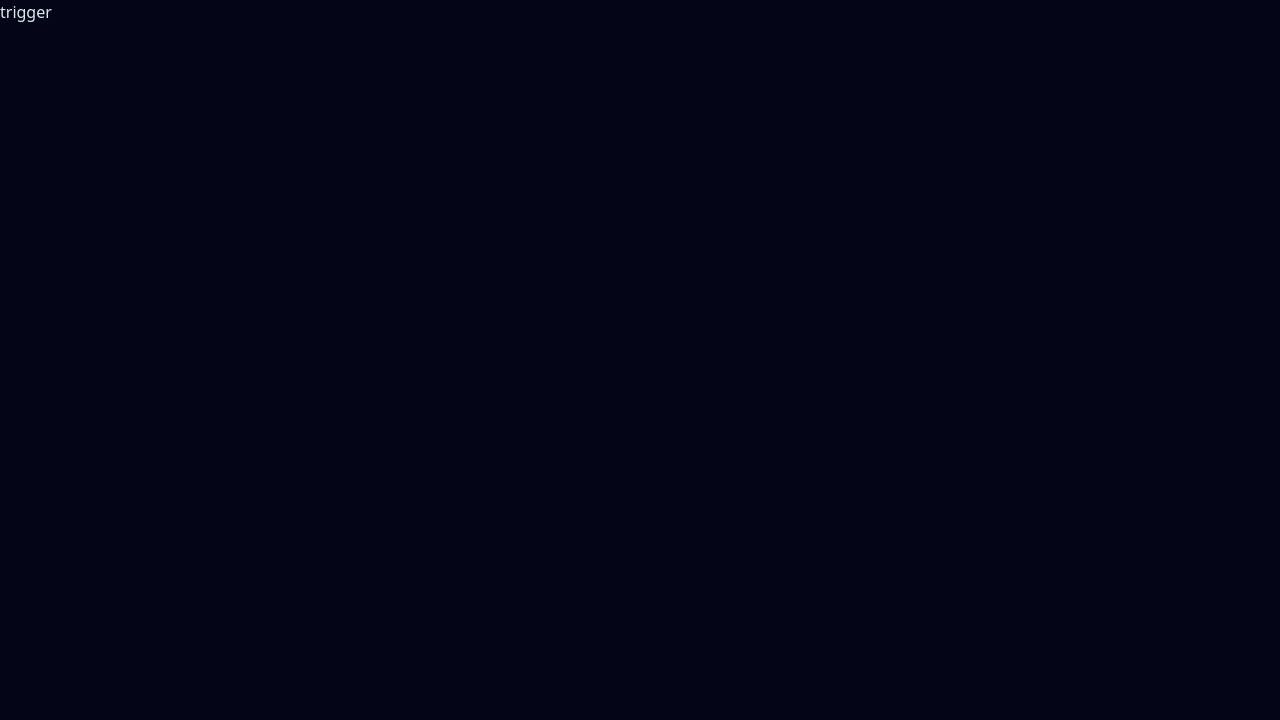
Test case: open/close › closes on scrim click
Step 1. Press k
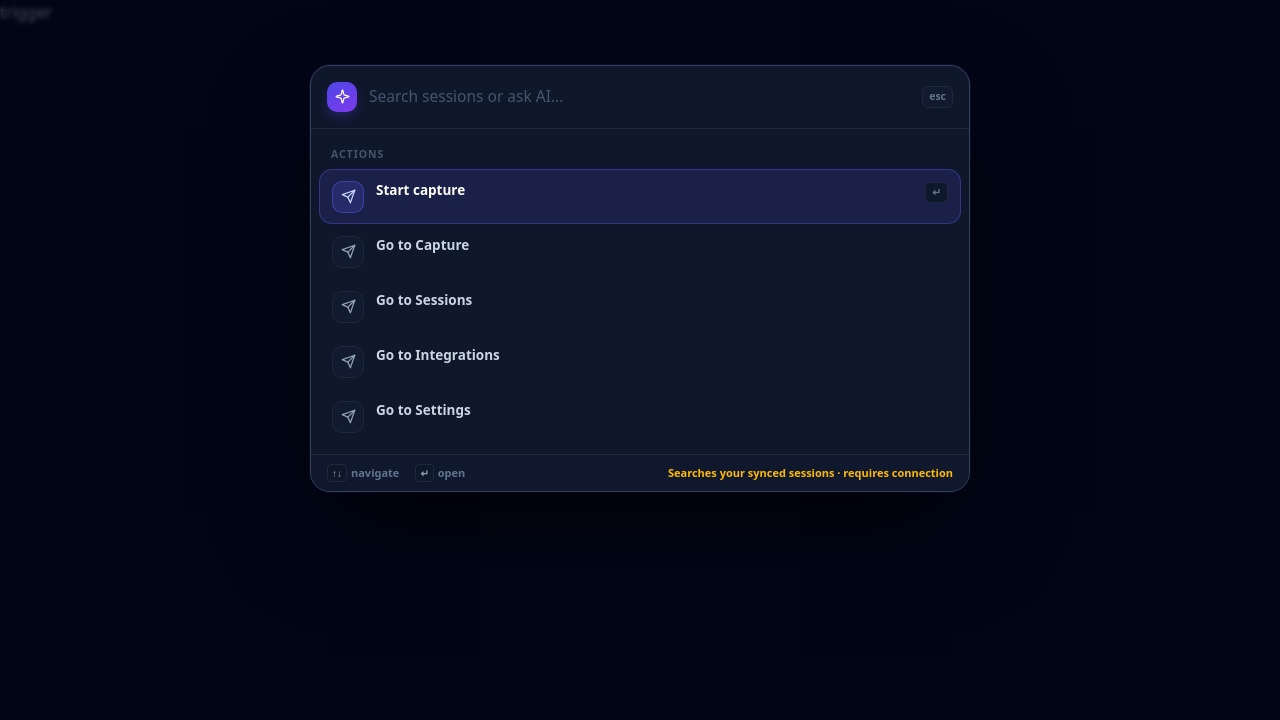
Step 2. Click the element with test id "palette-scrim" → [77, 360], box [0,0,1279,719]
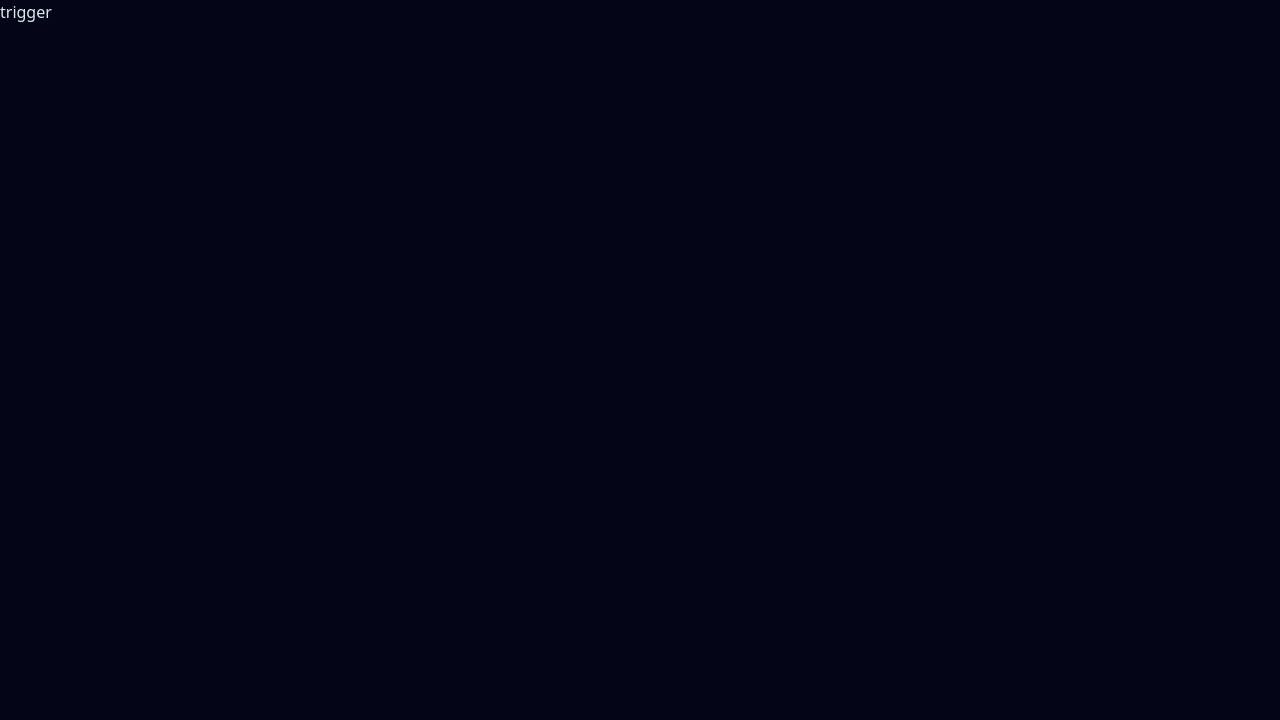
Now the dialog is gone
